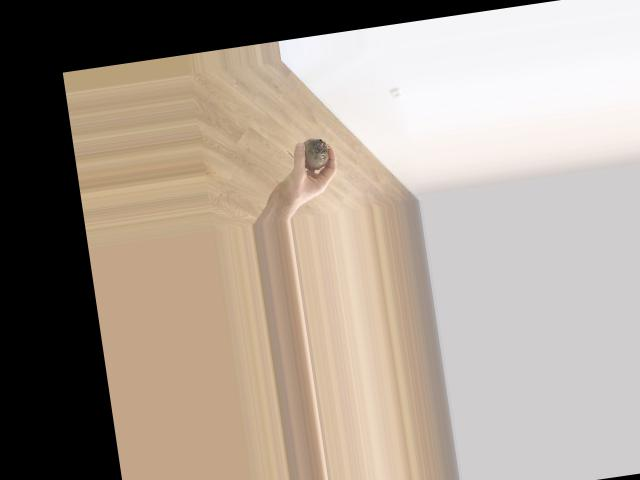beet: (286, 135, 332, 173)
